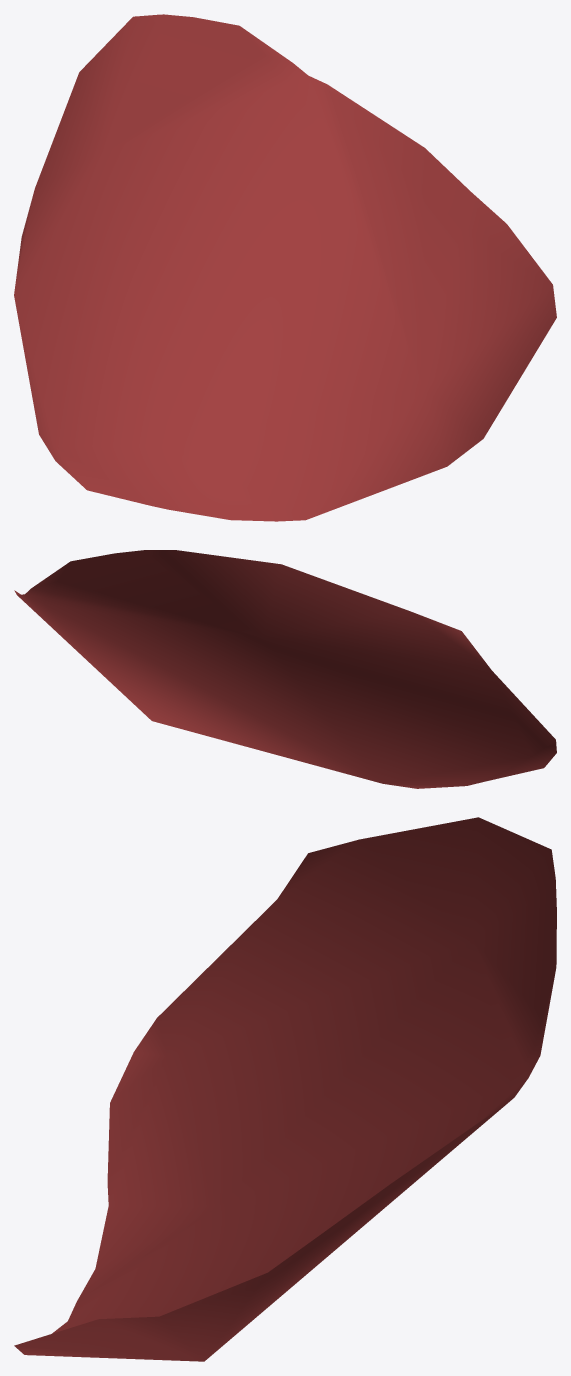
File: semitendinosus-muscle-ol.glb
3 renders of one model, top to bottom at view 1: azimuth 30°, elevation 25°; view 2: azimuth 150°, elevation 25°; view 3: azimuth 270°, elevation 25°, orthographic. The views are drawn at different scales.
Visible parts, largest first — view 1: Semitendinosus muscle.ol; view 2: Semitendinosus muscle.ol; view 3: Semitendinosus muscle.ol.
Part boxes in pixels (left/top/right/bottom): Semitendinosus muscle.ol: left=14, top=14, right=556, bottom=521; Semitendinosus muscle.ol: left=14, top=550, right=556, bottom=788; Semitendinosus muscle.ol: left=14, top=817, right=556, bottom=1361.
Bounding box in the file's own units: 0.0192 × 0.013 × 0.0134.
